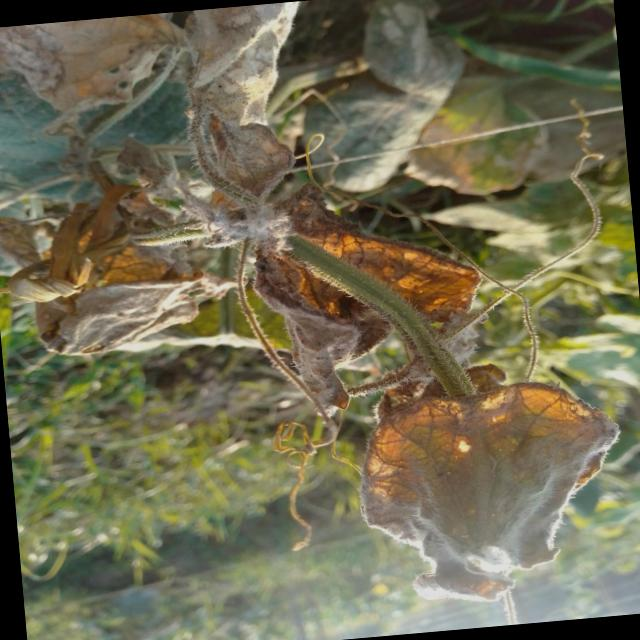cucumber_bacterial: (0, 0, 334, 257), (338, 365, 640, 618), (246, 0, 546, 218), (236, 208, 504, 446), (0, 197, 235, 418)
